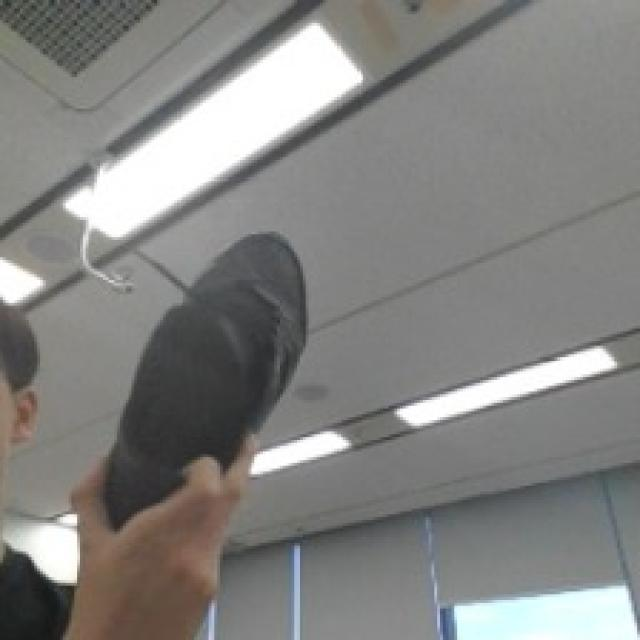shoe: (48, 156, 330, 562)
